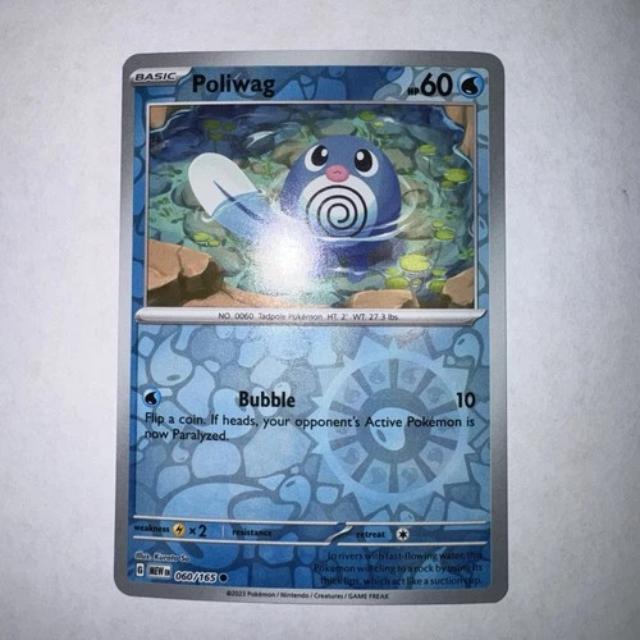Card: (105, 41, 516, 609)
Name: (186, 67, 276, 100)
